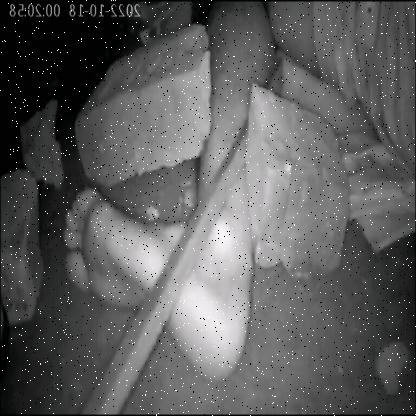leg: (51, 97, 278, 393)
